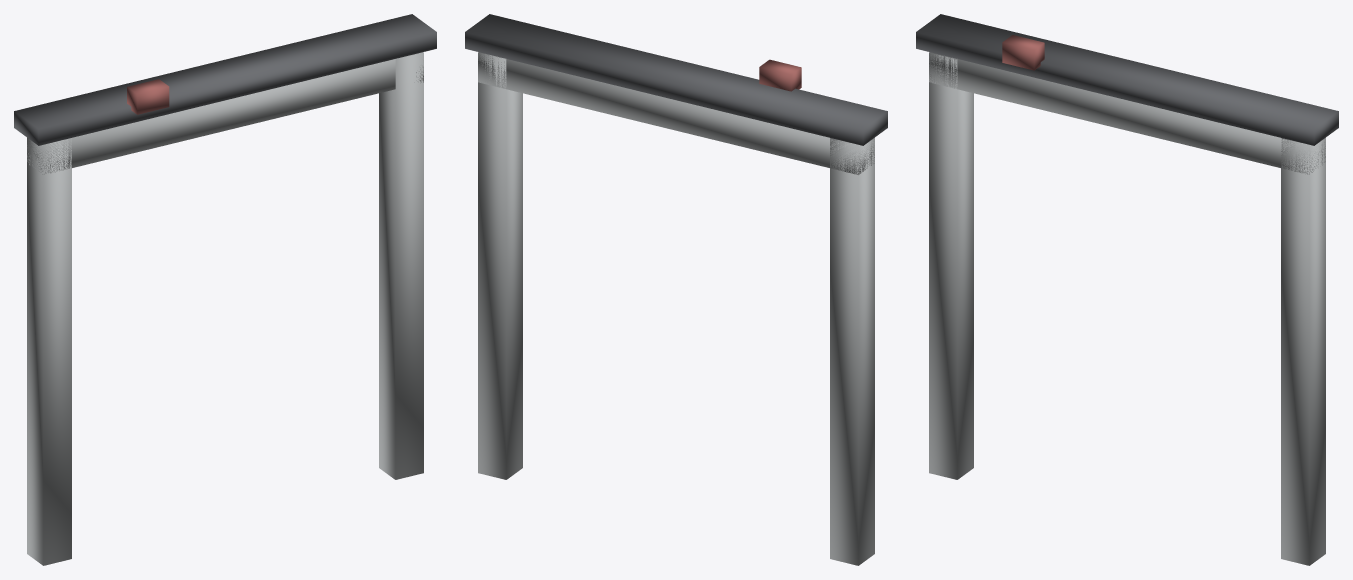
File: doorway_fire_rated_w182_h210_d16.glb
3 renders of one model, left to right at view 1: azimuth 30°, elevation 25°; view 2: azimuth 150°, elevation 25°; view 3: azimuth 330°, elevation 25°, orthographic.
Parts seen in each view (by area): view 1: world; view 2: world; view 3: world.
Part boxes in pixels (x1,y1,x2,y2): world: [14, 14, 436, 565]; world: [465, 14, 887, 565]; world: [916, 14, 1338, 565].
Bounding box in the file's own units: 2.24 × 2.46 × 0.3.
